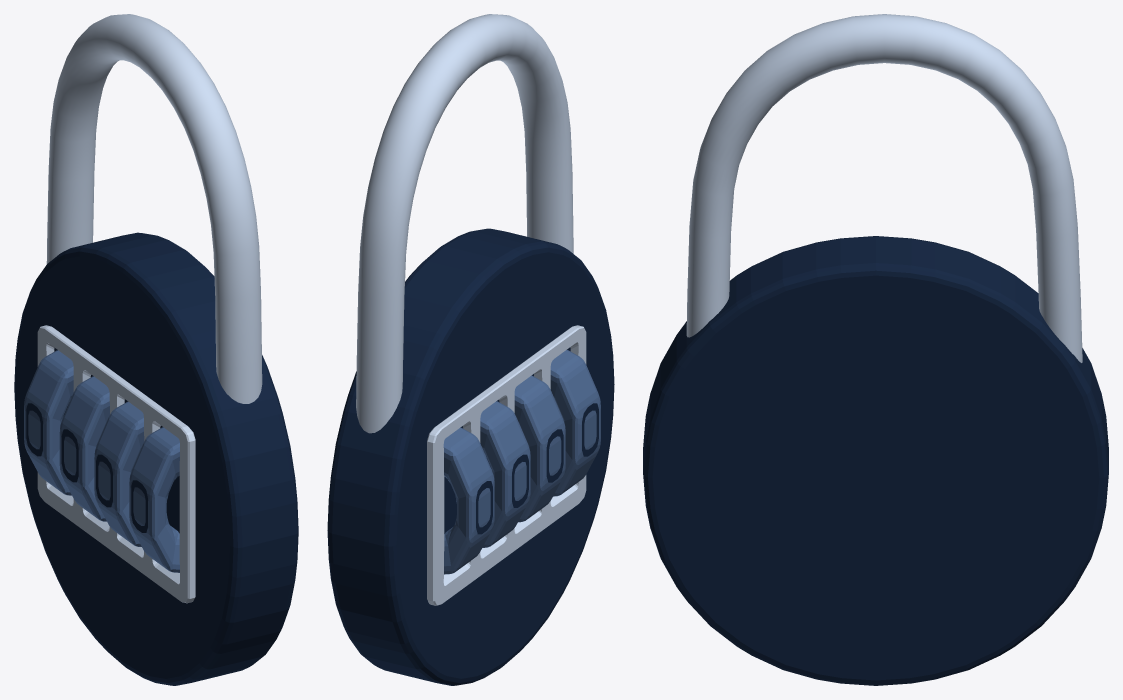
The model's file is cadeado 1.fbx.
3 renders of one model, left to right at view 1: azimuth 30°, elevation 25°; view 2: azimuth 150°, elevation 25°; view 3: azimuth 270°, elevation 25°, orthographic. The views are drawn at different scales.
Parts seen in each view (by area): view 1: Cadeado; view 2: Cadeado; view 3: Cadeado.
Part boxes in pixels (box(x1,y1,x2,y2)): Cadeado: box(14, 14, 298, 685); Cadeado: box(327, 14, 614, 685); Cadeado: box(643, 14, 1108, 685).
Bounding box in the file's own units: 2.65 × 15.75 × 10.12.
